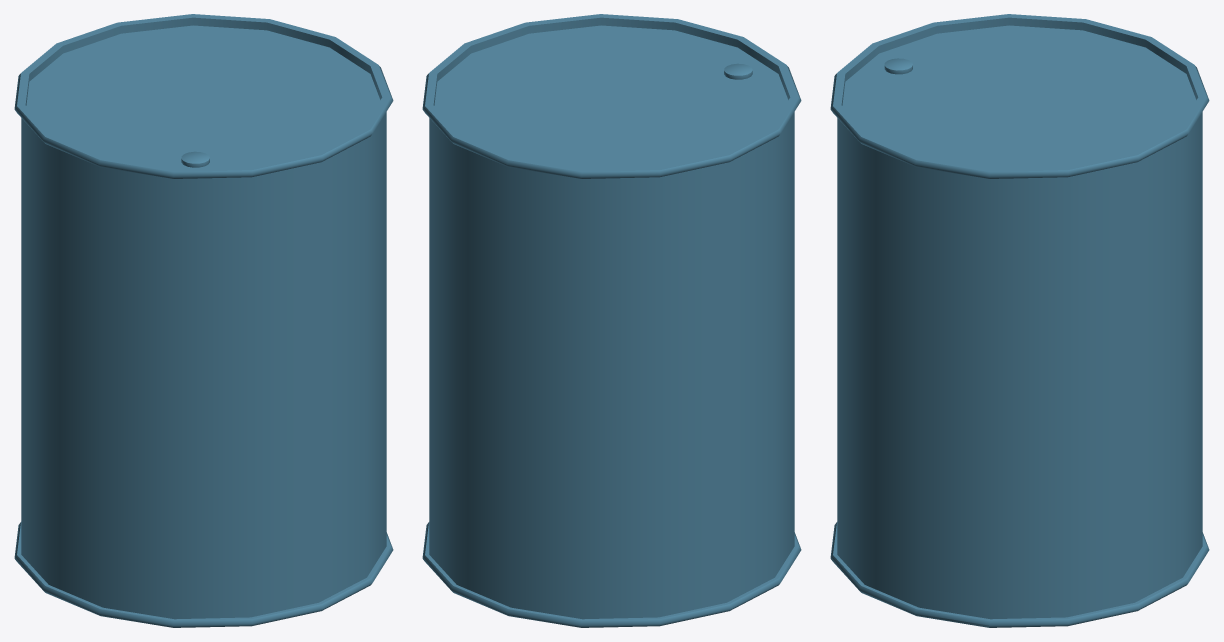
File: GJ_Decor_Barrel.fbx
The picture shows the model from 3 angles, left to right: view 1: azimuth 30°, elevation 25°; view 2: azimuth 150°, elevation 25°; view 3: azimuth 270°, elevation 25°; orthographic projection.
Parts seen in each view (by area): view 1: GJ_Decor_Barrel; view 2: GJ_Decor_Barrel; view 3: GJ_Decor_Barrel.
Part boxes in pixels (<box>): GJ_Decor_Barrel: <box>14,14,393,627</box>; GJ_Decor_Barrel: <box>422,14,801,627</box>; GJ_Decor_Barrel: <box>830,14,1209,627</box>.
Bounding box in the file's own units: 4.27 × 5.67 × 4.27.
